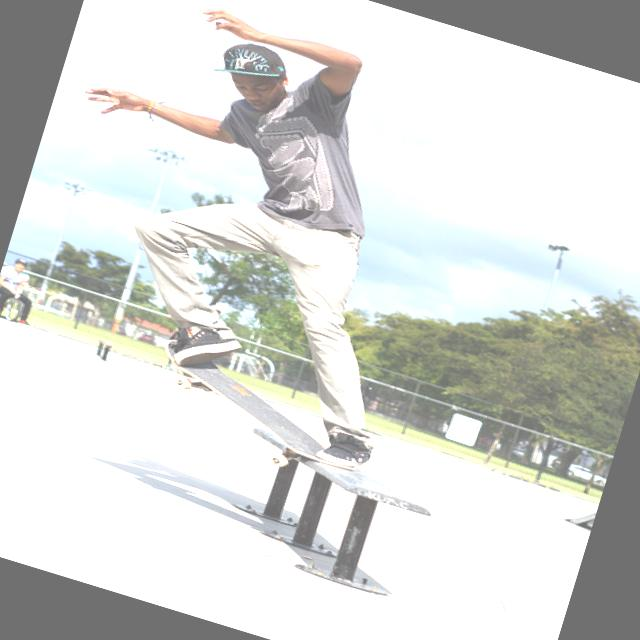Vehicle: (548, 454, 608, 486)
